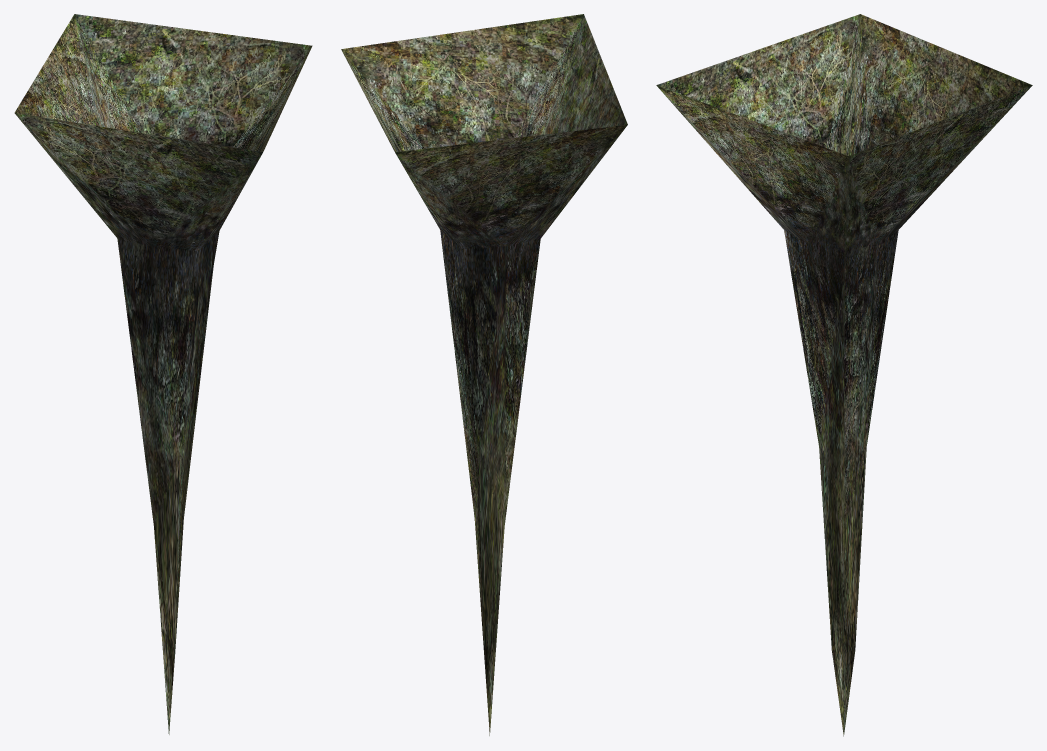
The model's file is thm_all_cave_stalagtite_damprock_b3_l2.fbx.
3 renders of one model, left to right at view 1: azimuth 30°, elevation 25°; view 2: azimuth 150°, elevation 25°; view 3: azimuth 270°, elevation 25°, orthographic.
Visible parts, largest first — view 1: mesh_node; view 2: mesh_node; view 3: mesh_node.
Boxes of the visible parts, x1,y1,x2,y2 form: mesh_node: (14,14,312,734); mesh_node: (341,14,627,735); mesh_node: (656,14,1032,736).
Size of the model in its own units: 2.43 by 5.18 by 2.71.
